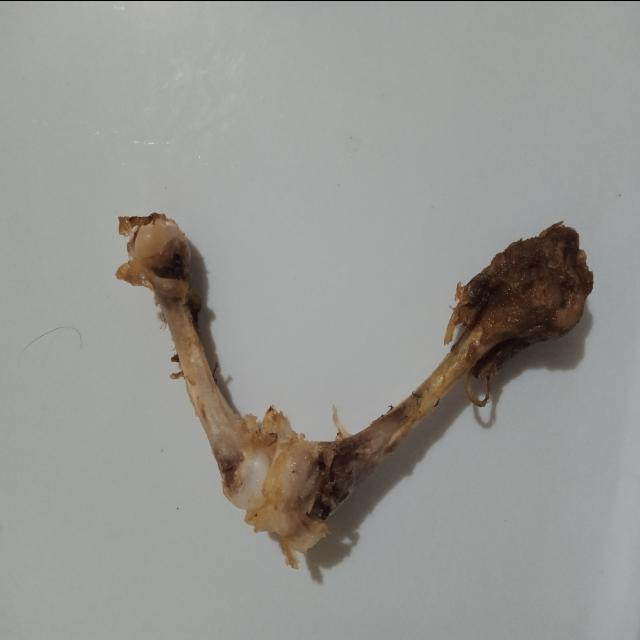bone: (112, 204, 600, 570)
